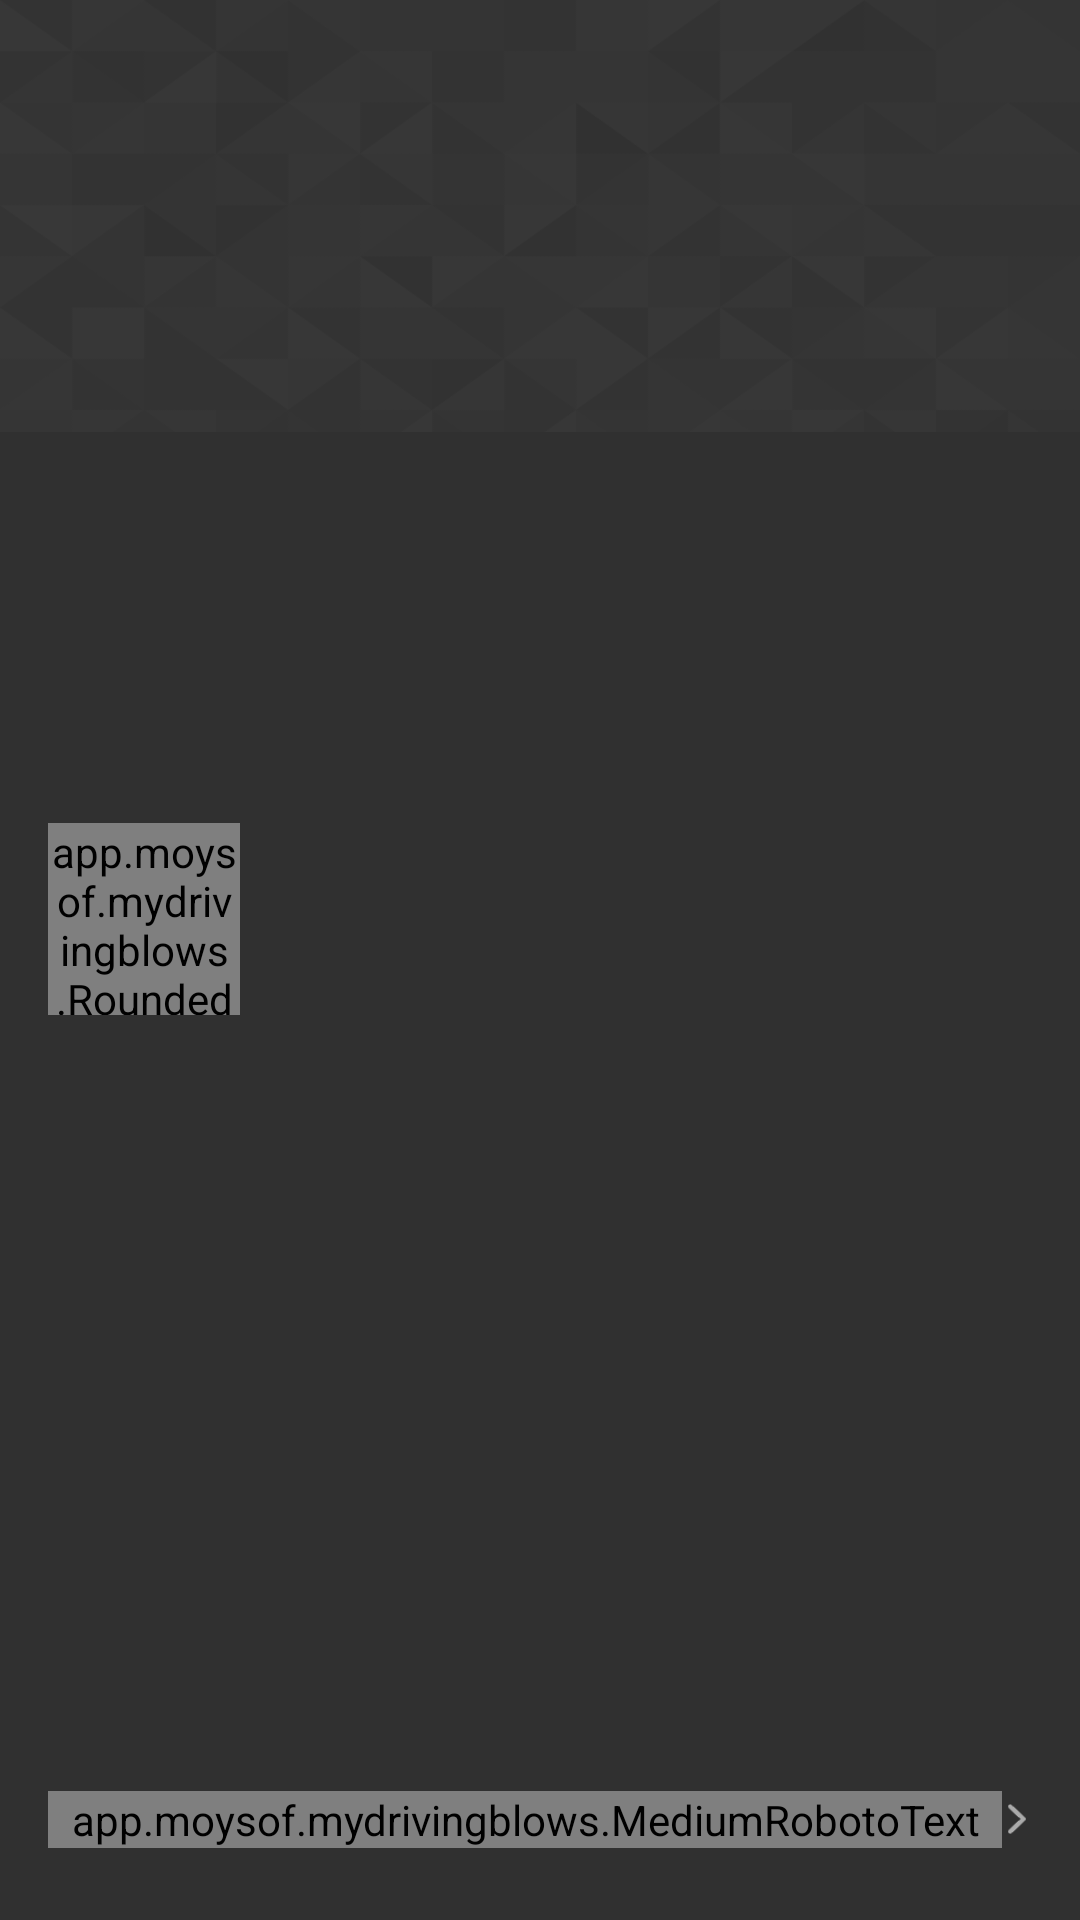

Named icons in this screenshot (1080 x 1920) and their centers, [x,y]:
arrow: [1017,1819]
